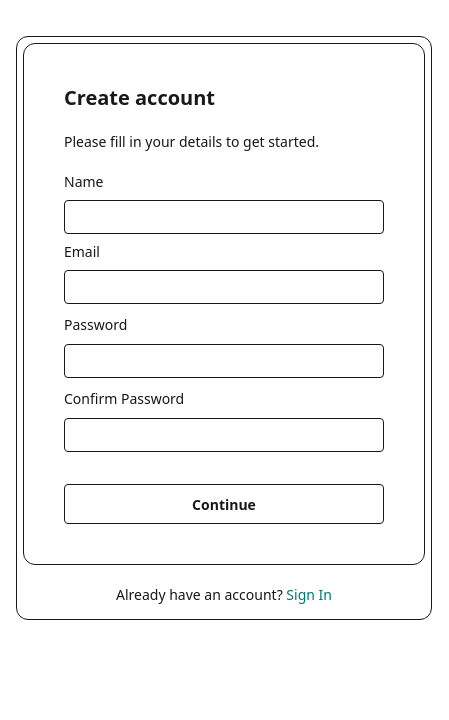
Test: Sign Up › displays validation errors for passwords without letters
In the password field labelled "Password": (224, 361) top-left (64, 344), bottom-right (384, 378), type "12345678"
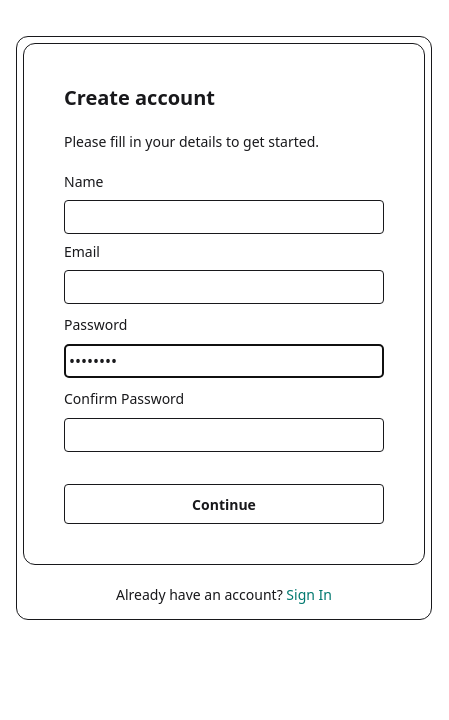
Click the button "Continue": (224, 504) top-left (64, 484), bottom-right (384, 524)
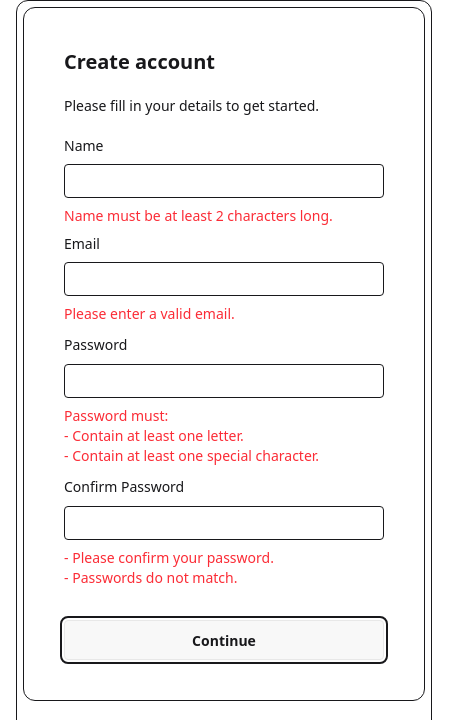
Expected: the list item "- Contain at least one letter." is shown, top-left (64, 426), bottom-right (244, 445)
